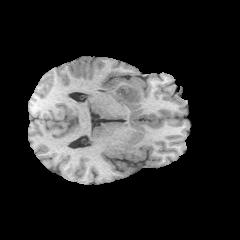glioma: (109, 78, 148, 105)
